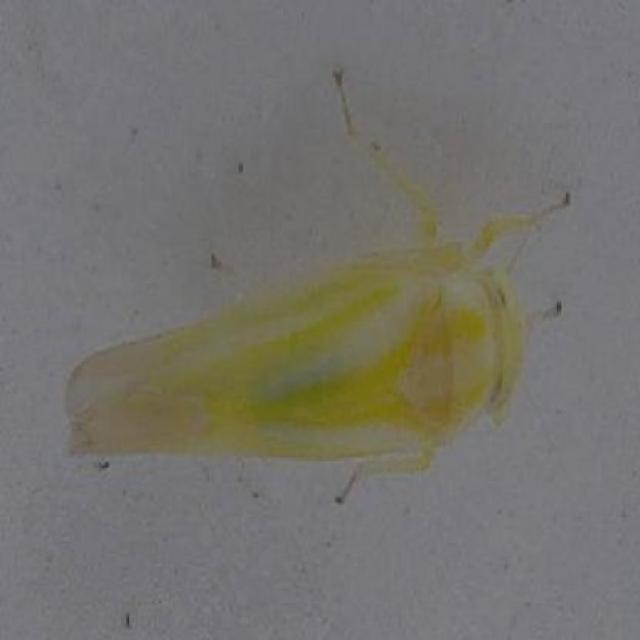green-leafhopper: (59, 208, 548, 474)
